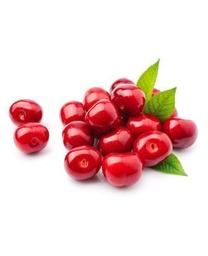cherry: (102, 154, 143, 189), (133, 133, 171, 168), (86, 98, 122, 134), (64, 146, 101, 181), (162, 115, 198, 150), (14, 123, 49, 156), (114, 83, 144, 116), (128, 112, 162, 141), (96, 127, 131, 153), (62, 121, 94, 147), (10, 99, 42, 124), (60, 101, 86, 123)
